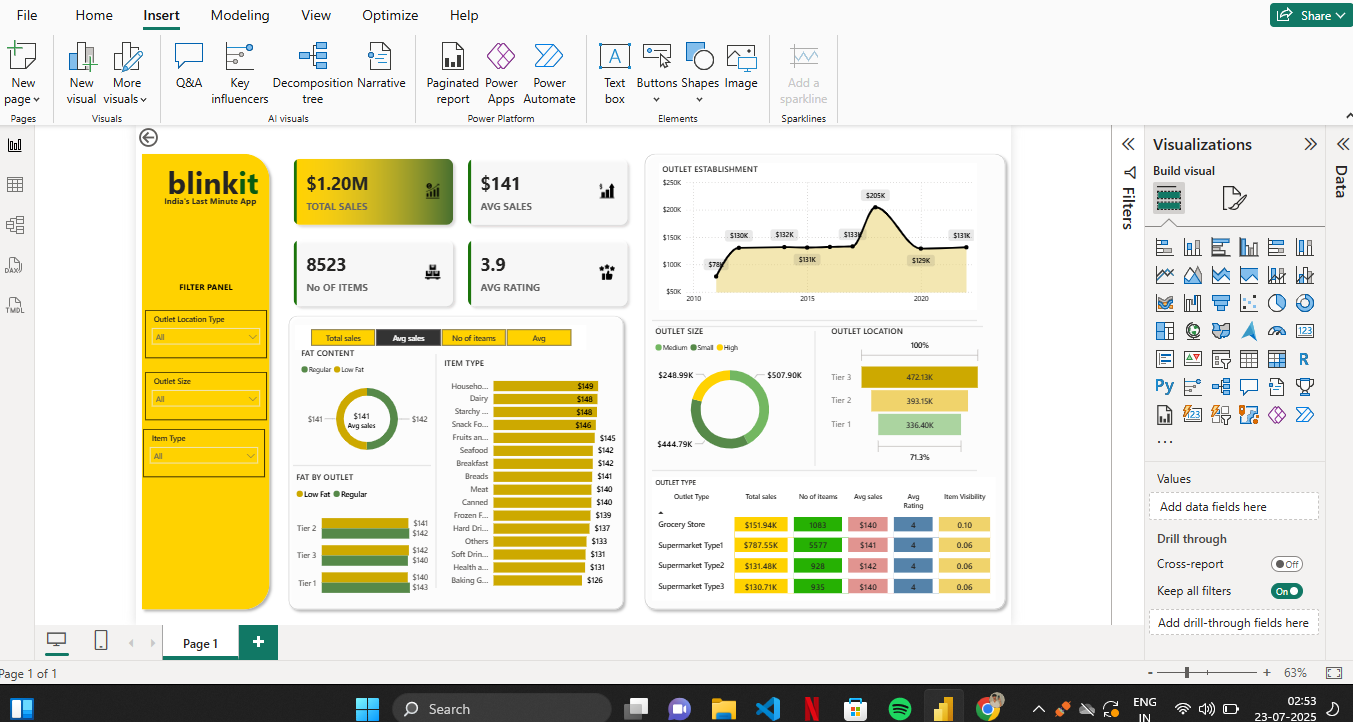

The page's visual inventory and layout, read from the dashboard file:
{"tool":"powerbi","page":{"name":"Page 1","canvas":[1400,800],"ordinal":0},"visuals":[{"type":"shape","box":[0,36.8,222.4,747.2],"z":0},{"type":"textbox","box":[40,107.2,168,30.4],"z":1000},{"type":"textbox","box":[40,52.8,166.4,84.8],"z":2000},{"type":"cardVisual","fields":{"Data":["BlinkIT Grocery Data.Total sales","BlinkIT Grocery Data.Avg sales","BlinkIT Grocery Data.No of iteams","BlinkIT Grocery Data.Avg"]},"box":[235.2,36.8,569.6,270.4],"z":3000},{"type":"shape","box":[235.2,296,553.6,488],"z":4000},{"type":"donutChart","title":"FAT CONTENT","fields":{"Y":["BlinkIT Grocery Data.Total sales"],"Category":["BlinkIT Grocery Data.Item Fat Content"]},"box":[259.2,355.2,220.8,185.6],"z":5000},{"type":"slicer","fields":{"Values":["Metrics.Metrics"]},"box":[254.4,320,465.6,40],"z":6000},{"type":"cardVisual","fields":{"Data":["BlinkIT Grocery Data.Total sales"]},"box":[300.8,428.8,120,86.4],"z":7000},{"type":"clusteredBarChart","title":"FAT BY OUTLET","fields":{"Y":["BlinkIT Grocery Data.Total sales"],"Category":["BlinkIT Grocery Data.Outlet Location Type"],"Series":["BlinkIT Grocery Data.Item Fat Content"]},"box":[251.2,553.6,220.8,219.2],"z":8000},{"type":"shape","box":[251.2,528,220.8,33.6],"z":9000},{"type":"shape","box":[472,366.4,16,374.4],"z":10000},{"type":"barChart","title":"ITEM TYPE","fields":{"Y":["BlinkIT Grocery Data.Total sales"],"Category":["BlinkIT Grocery Data.Item Type"]},"box":[488,371.2,284.8,379.2],"z":11000},{"type":"shape","box":[804.8,36.8,595.2,747.2],"z":12000},{"type":"lineChart","title":"OUTLET ESTABLISHMENT","fields":{"Y":["BlinkIT Grocery Data.Total sales"],"Category":["BlinkIT Grocery Data.Outlet Establishment Year"]},"box":[836.8,60.8,508.8,235.2],"z":13000},{"type":"shape","box":[825.6,296,520,33.6],"z":14000},{"type":"donutChart","title":"OUTLET SIZE","fields":{"Y":["BlinkIT Grocery Data.Total sales"],"Category":["BlinkIT Grocery Data.Outlet Size"]},"box":[825.6,320,249.6,225.6],"z":15000},{"type":"shape","box":[1080,329.6,12.8,216],"z":16000},{"type":"funnel","title":"OUTLET LOCATION","fields":{"Y":["Sum(BlinkIT Grocery Data.Sales)"],"Category":["BlinkIT Grocery Data.Outlet Location Type"]},"box":[1107.2,320,249.6,225.6],"z":17000},{"type":"shape","box":[825.6,536,520,33.6],"z":18000},{"type":"pivotTable","title":"OUTLET TYPE","fields":{"Rows":["BlinkIT Grocery Data.Outlet Type"],"Values":["BlinkIT Grocery Data.Total sales","BlinkIT Grocery Data.No of iteams","BlinkIT Grocery Data.Avg sales","BlinkIT Grocery Data.Avg Rating","Avg(BlinkIT Grocery Data.Item Visibility)"]},"box":[825.6,563.2,550.4,198.4],"z":19000},{"type":"actionButton","box":[0,0,100,40],"z":20000},{"type":"slicer","fields":{"Values":["BlinkIT Grocery Data.Outlet Location Type"]},"box":[14.4,296,195.2,76.8],"z":21000},{"type":"shape","box":[835.6,306,520,33.6],"z":22000},{"type":"slicer","fields":{"Values":["BlinkIT Grocery Data.Outlet Size"]},"box":[14.4,395.2,195.2,76.8],"z":23000},{"type":"slicer","fields":{"Values":["BlinkIT Grocery Data.Item Type"]},"box":[11.2,486.4,195.2,76.8],"z":24000},{"type":"textbox","box":[14.4,244.8,195.2,30.4],"z":25000}]}

Visuals, with their boxes on the page's 1400x800 design canvas (x1, y1, x2, y2). These are canvas units, not pixel positions in the 1353x722 screenshot, which may show the page scaled, cropped or inside an application window:
shape: <region>0, 37, 222, 784</region>
textbox: <region>40, 107, 208, 138</region>
textbox: <region>40, 53, 206, 138</region>
cardVisual - BlinkIT Grocery Data.Total sales x BlinkIT Grocery Data.Avg sales: <region>235, 37, 805, 307</region>
shape: <region>235, 296, 789, 784</region>
"FAT CONTENT" donutChart: <region>259, 355, 480, 541</region>
slicer - Metrics.Metrics: <region>254, 320, 720, 360</region>
cardVisual - BlinkIT Grocery Data.Total sales: <region>301, 429, 421, 515</region>
"FAT BY OUTLET" clusteredBarChart: <region>251, 554, 472, 773</region>
shape: <region>251, 528, 472, 562</region>
shape: <region>472, 366, 488, 741</region>
"ITEM TYPE" barChart: <region>488, 371, 773, 750</region>
shape: <region>805, 37, 1400, 784</region>
"OUTLET ESTABLISHMENT" lineChart: <region>837, 61, 1346, 296</region>
shape: <region>826, 296, 1346, 330</region>
"OUTLET SIZE" donutChart: <region>826, 320, 1075, 546</region>
shape: <region>1080, 330, 1093, 546</region>
"OUTLET LOCATION" funnel: <region>1107, 320, 1357, 546</region>
shape: <region>826, 536, 1346, 570</region>
"OUTLET TYPE" pivotTable: <region>826, 563, 1376, 762</region>
actionButton: <region>0, 0, 100, 40</region>
slicer - BlinkIT Grocery Data.Outlet Location Type: <region>14, 296, 210, 373</region>
shape: <region>836, 306, 1356, 340</region>
slicer - BlinkIT Grocery Data.Outlet Size: <region>14, 395, 210, 472</region>
slicer - BlinkIT Grocery Data.Item Type: <region>11, 486, 206, 563</region>
textbox: <region>14, 245, 210, 275</region>
